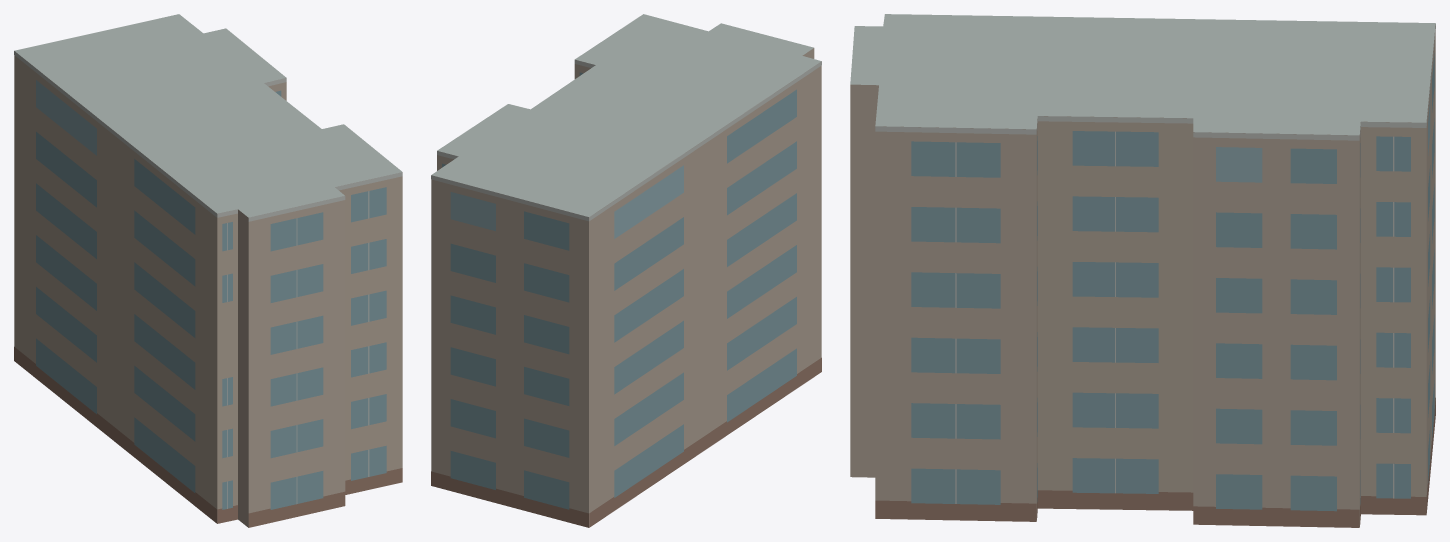
Rendered from survey-upis-32664502.glb.
The picture shows the model from 3 angles, left to right: view 1: azimuth 30°, elevation 25°; view 2: azimuth 150°, elevation 25°; view 3: azimuth 270°, elevation 25°; orthographic projection. The views are drawn at different scales.
Parts seen in each view (by area): view 1: survey-upis-32664502.tmp; view 2: survey-upis-32664502.tmp; view 3: survey-upis-32664502.tmp.
Boxes of the visible parts, bbox=[...] form: survey-upis-32664502.tmp: bbox=[14, 14, 402, 527]; survey-upis-32664502.tmp: bbox=[431, 14, 821, 527]; survey-upis-32664502.tmp: bbox=[850, 14, 1435, 527].
Size of the model in its own units: 11.88 by 17.9 by 24.21.
